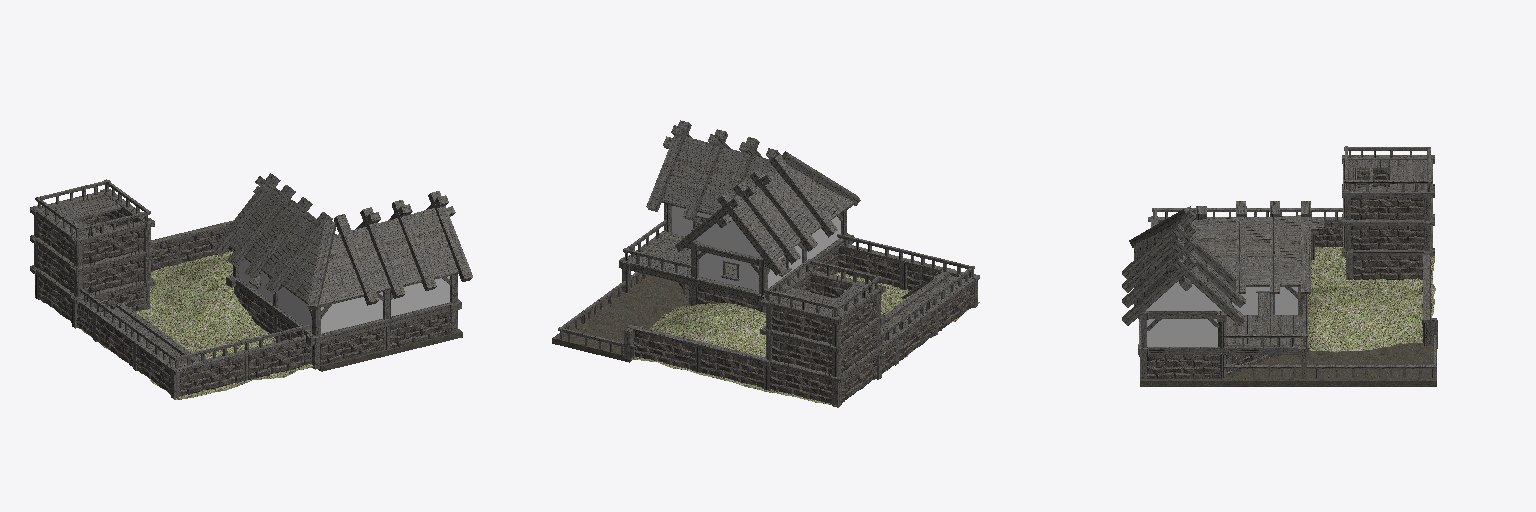
3 views of the same model, side by side, from view 1: azimuth 30°, elevation 25°; view 2: azimuth 150°, elevation 25°; view 3: azimuth 270°, elevation 25° (orthographic).
Parts seen in each view (by area): view 1: Cube; view 2: Cube; view 3: Cube.
Boxes of the visible parts, <box> form: Cube: <box>30,173,472,399</box>; Cube: <box>552,120,979,407</box>; Cube: <box>1122,146,1437,386</box>.
Size of the model in its own units: 23.83 by 9.78 by 21.72.
Materials: 5 (4 with a texture image).